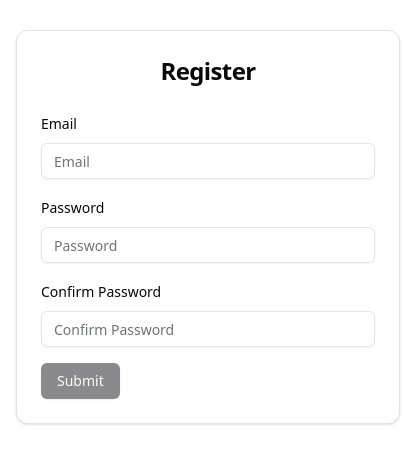
Test: Register Form › Handle Errors › should show email error message on invalid email
The image size is (417, 456).
Expected: the text "Invalid email" is not shown
Type "invalid-email" into the field labelled "Email" at (208, 161), box [41,143,375,179]
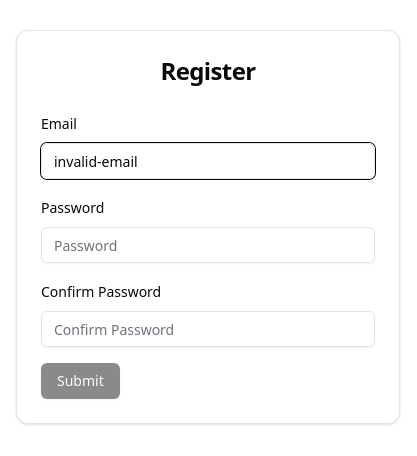
Type "1234" into the password field labelled "Password" at (208, 245), box [41,227,375,263]
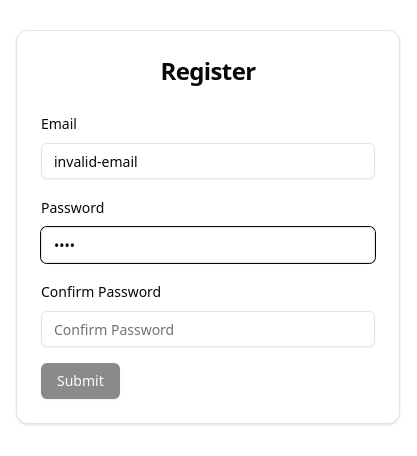
Type "1234" into the password field labelled "Confirm Password" at (208, 329), box [41,311,375,347]
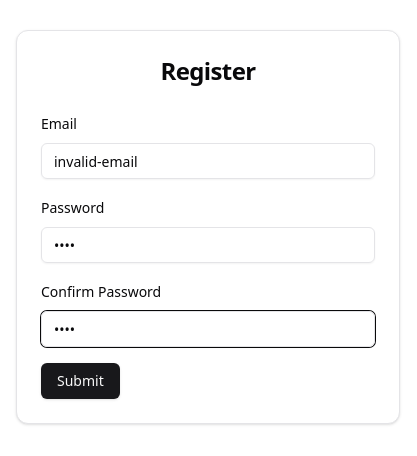
Click the button "Submit" at (80, 381), box [41,363,120,399]
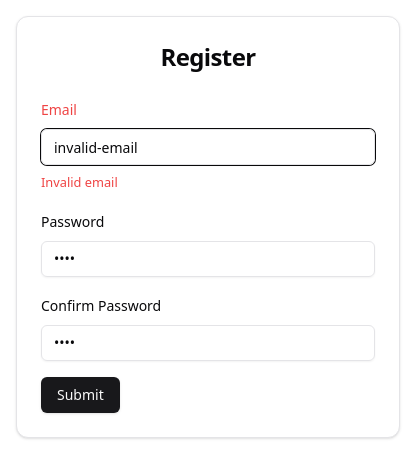
Expected: the text "Invalid email" is shown, [41,173,118,191]
